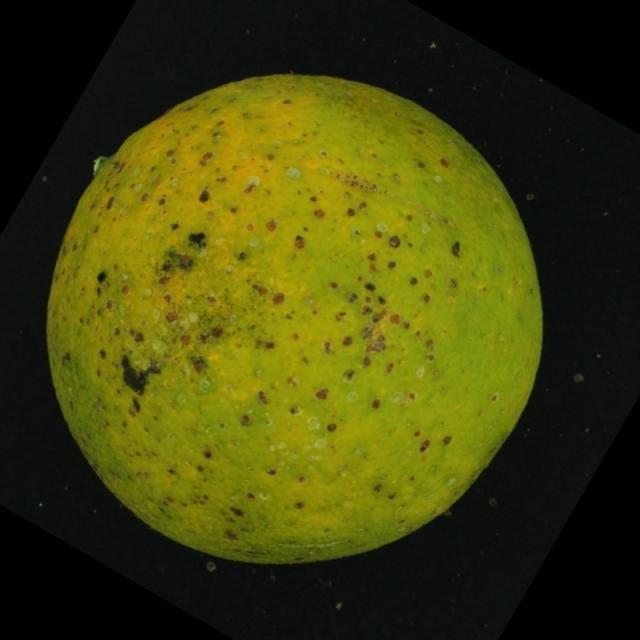grenning: (34, 46, 559, 574)
